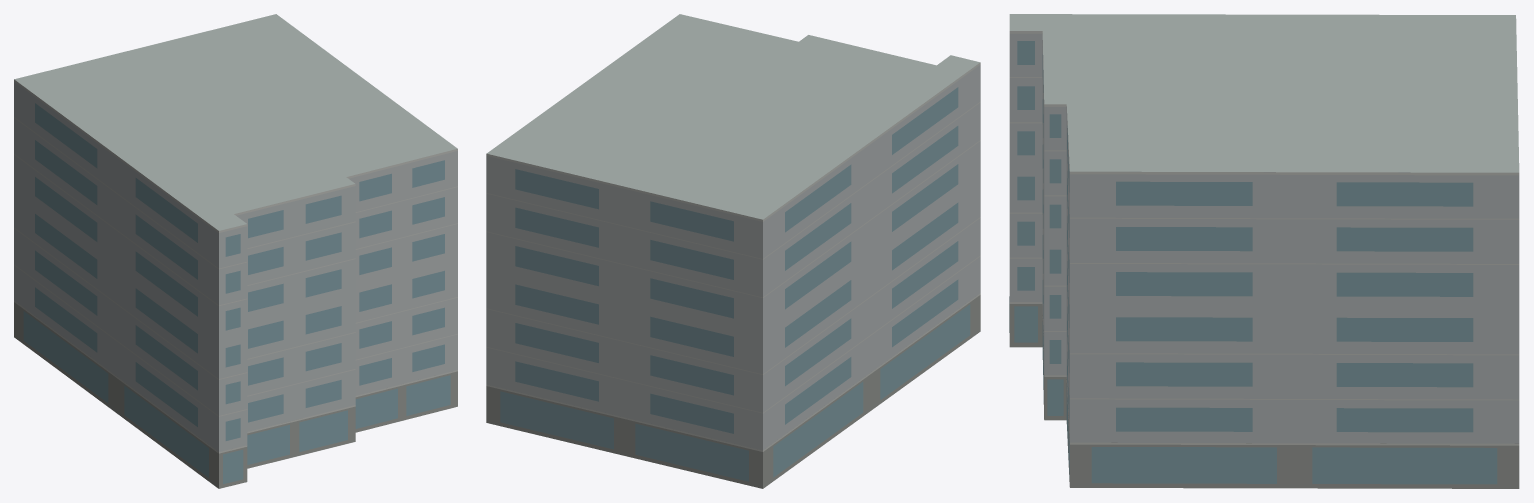
Rendered from survey-upis-32781362.glb.
The picture shows the model from 3 angles, left to right: view 1: azimuth 30°, elevation 25°; view 2: azimuth 150°, elevation 25°; view 3: azimuth 270°, elevation 25°; orthographic projection. The views are drawn at different scales.
Visible parts, largest first — view 1: survey-upis-32781362.tmp; view 2: survey-upis-32781362.tmp; view 3: survey-upis-32781362.tmp.
Boxes of the visible parts, left/top/right/bottom form: survey-upis-32781362.tmp: left=14, top=14, right=457, bottom=488; survey-upis-32781362.tmp: left=486, top=14, right=980, bottom=488; survey-upis-32781362.tmp: left=1009, top=14, right=1519, bottom=488.
Size of the model in its own units: 31.14 by 28.9 by 42.25.
